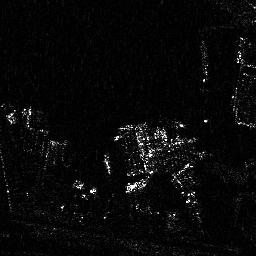ship: (198, 38, 209, 83)
